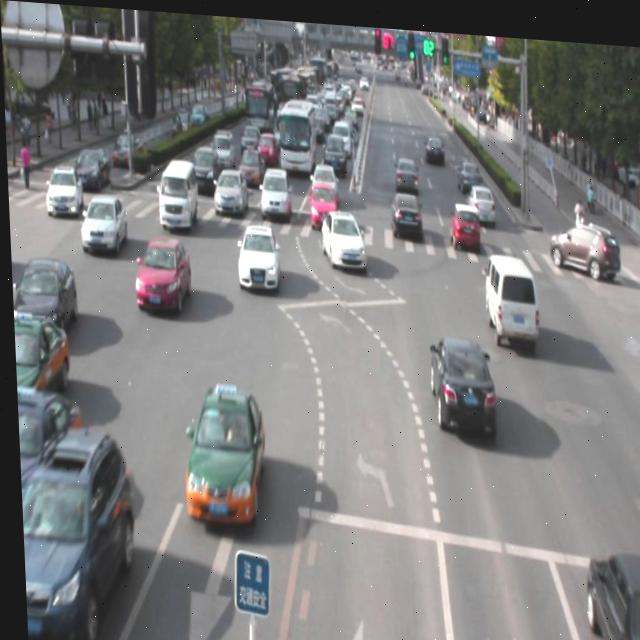car: (15, 418, 131, 637), (175, 378, 262, 525), (13, 382, 80, 528), (427, 328, 492, 429), (579, 539, 640, 640), (131, 232, 188, 313), (232, 219, 276, 286), (317, 202, 363, 264), (446, 193, 478, 243), (639, 426, 640, 531)
truck: (482, 243, 535, 336), (155, 152, 197, 230)
